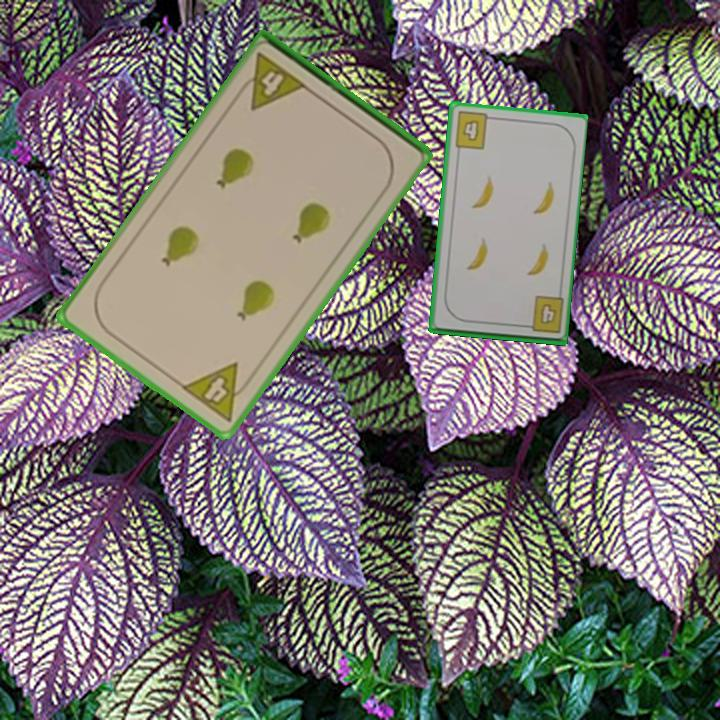4b: (519, 293, 566, 337), (451, 108, 497, 152)
4p: (177, 359, 258, 425), (232, 49, 310, 115)
